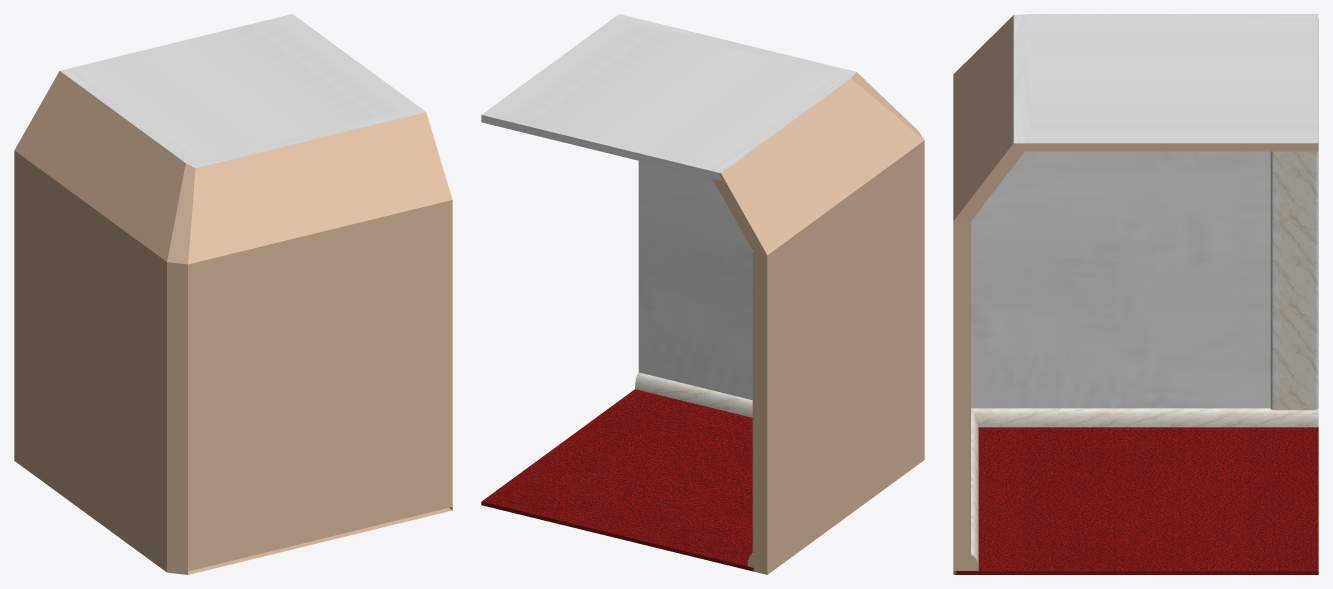
The model's file is Modulo esquina.fbx.
The picture shows the model from 3 angles, left to right: view 1: azimuth 30°, elevation 25°; view 2: azimuth 150°, elevation 25°; view 3: azimuth 270°, elevation 25°; orthographic projection. The views are drawn at different scales.
Visible parts, largest first — view 1: Pared y piso con columna esquina; view 2: Pared y piso con columna esquina; view 3: Pared y piso con columna esquina.
Part boxes in pixels (x1=…): Pared y piso con columna esquina: x1=14, y1=14, x2=452, y2=574; Pared y piso con columna esquina: x1=481, y1=14, x2=924, y2=574; Pared y piso con columna esquina: x1=953, y1=14, x2=1318, y2=574.
Size of the model in its own units: 421 by 549 by 421.
Materials: 4 (3 with a texture image).
